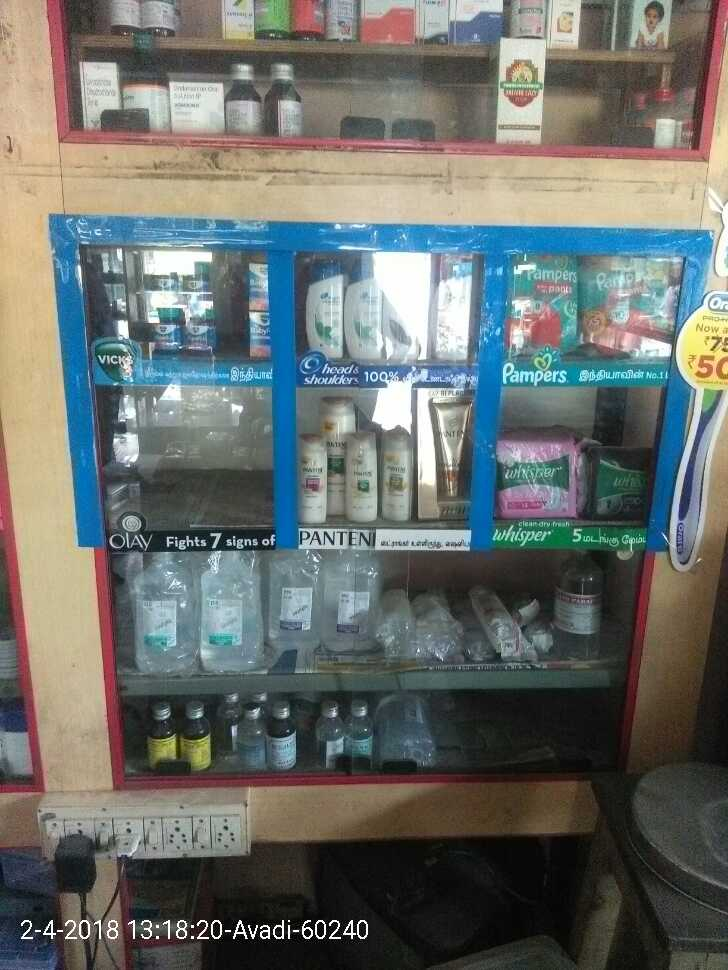vicks: (140, 251, 274, 359)
